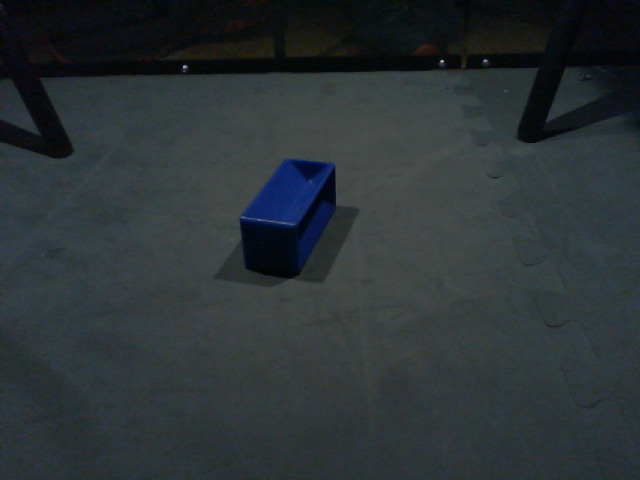BlueSample: (236, 153, 338, 280)
